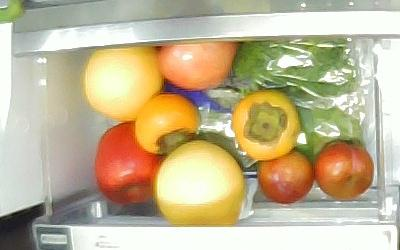apple: (95, 122, 165, 205), (157, 42, 238, 90)
grapefruit: (156, 139, 244, 227), (85, 46, 164, 121)
persimmon: (232, 89, 300, 160), (134, 92, 200, 154)
prune: (314, 140, 375, 202), (257, 150, 314, 205)
